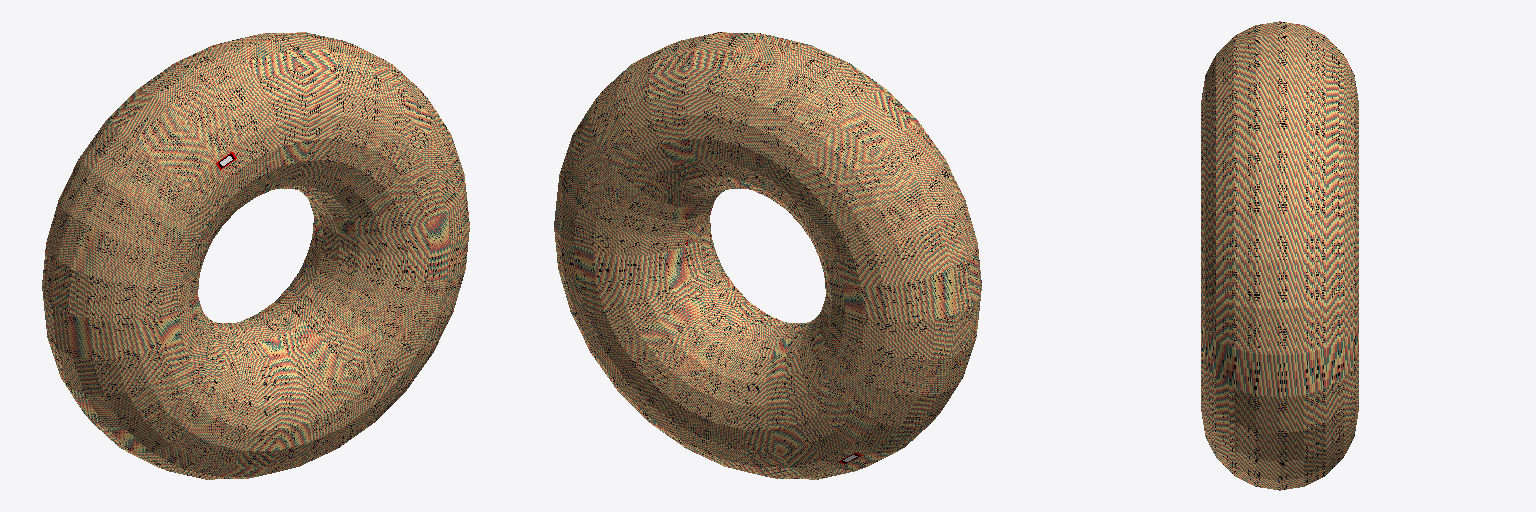
3 renders of one model, left to right at view 1: azimuth 30°, elevation 25°; view 2: azimuth 150°, elevation 25°; view 3: azimuth 270°, elevation 25°, orthographic.
Size of the model in its own units: 3 by 2.98 by 1.
1 materials, 1 textured.